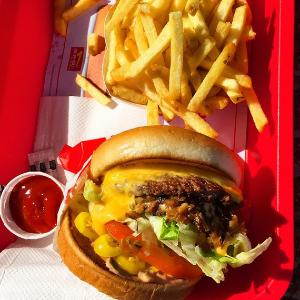cheeseburger_475cal: (60, 117, 266, 300)
fries_350cal: (98, 1, 271, 128)
